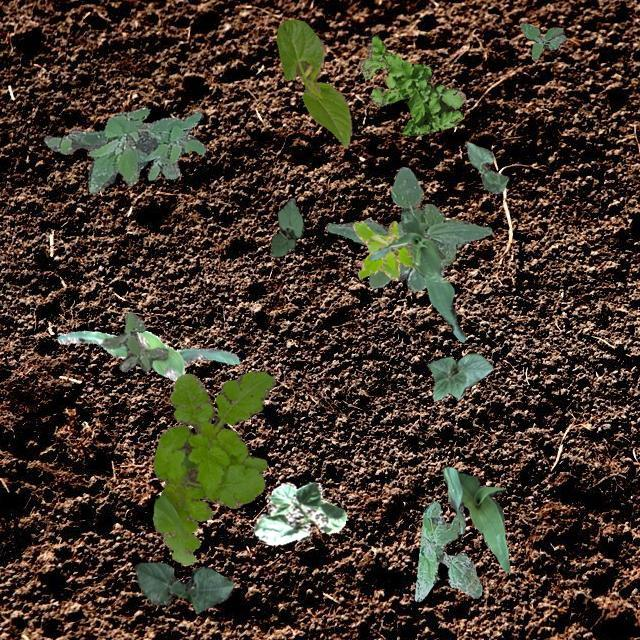crop: (326, 166, 492, 290), (368, 206, 464, 342), (274, 18, 350, 146), (56, 330, 238, 380), (442, 464, 508, 572), (252, 482, 346, 544), (134, 562, 234, 612), (426, 352, 492, 399), (463, 140, 508, 192), (268, 198, 302, 256)
weed: (152, 370, 274, 564), (42, 106, 206, 194), (358, 34, 464, 134), (414, 500, 481, 600), (100, 310, 168, 370), (352, 220, 414, 280), (518, 22, 564, 59)
